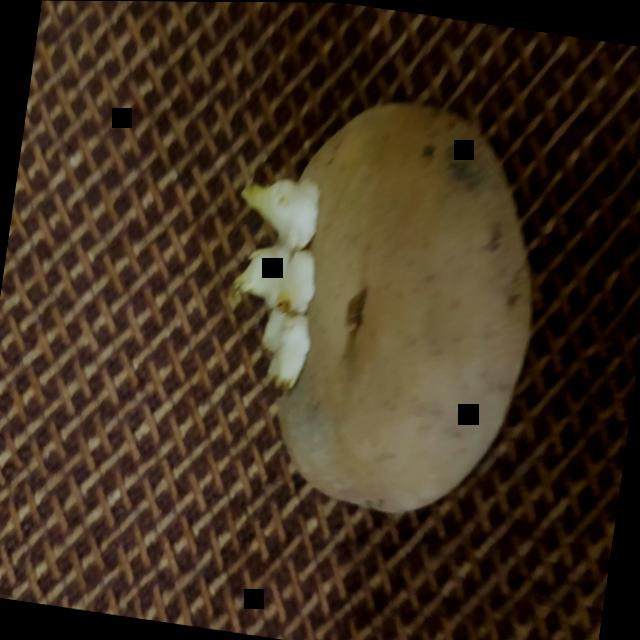potato: (201, 71, 569, 543)
